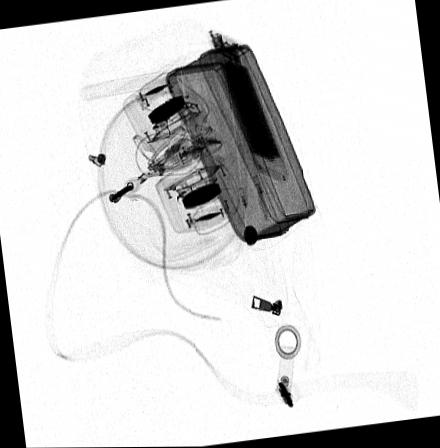Powerbank: (202, 27, 290, 185)
